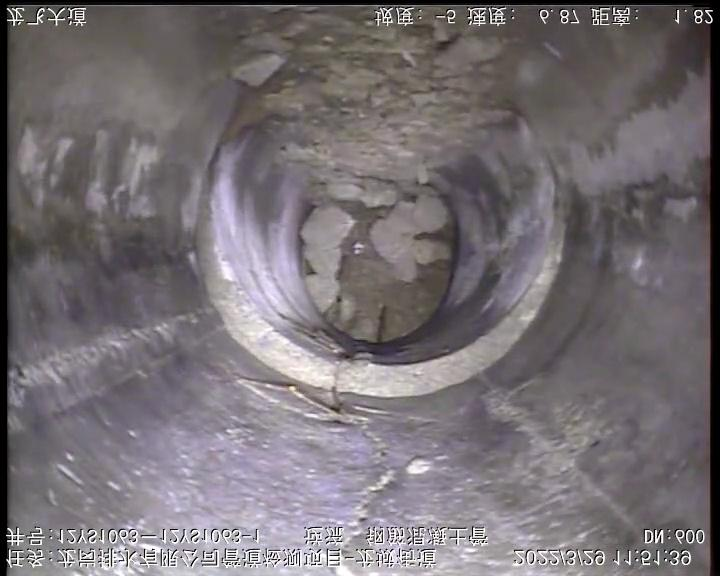CJ: (232, 9, 509, 200)
CKTJ: (199, 199, 564, 400)
PL: (237, 378, 395, 533)
